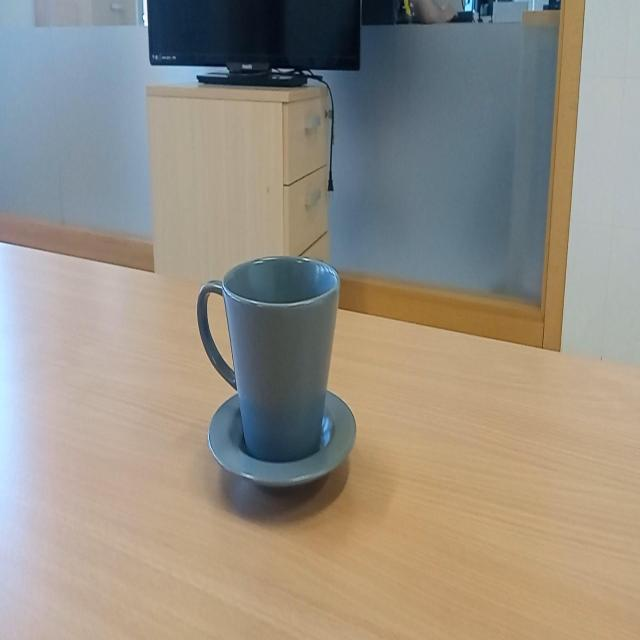cup: (196, 250, 363, 501)
